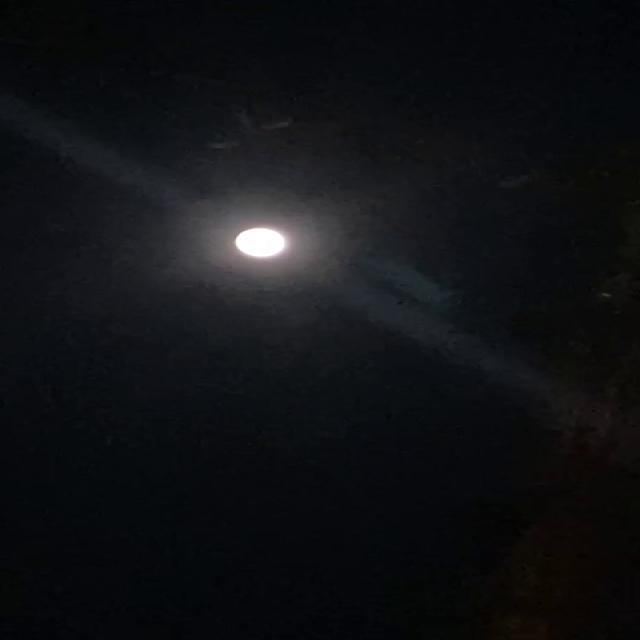moon: (201, 206, 328, 277)
